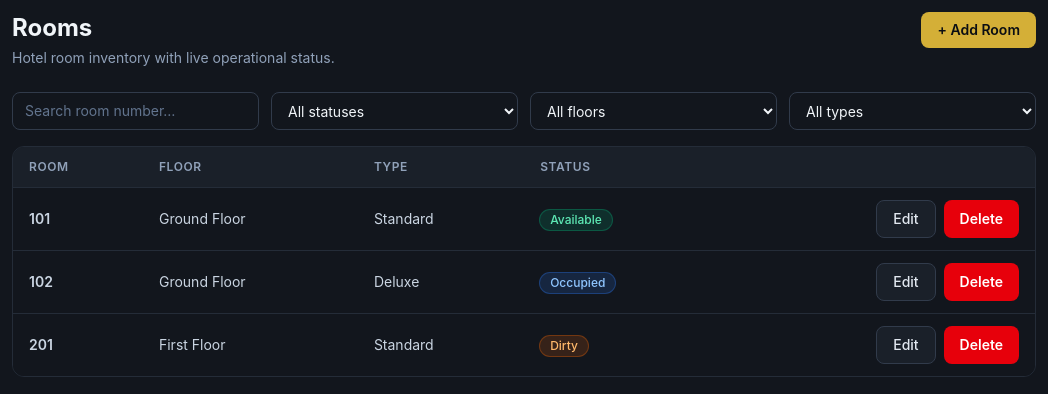
Test: RoomsPage › filters rooms by status
expect the text "101" is shown: met, box left=29, top=210, right=50, bottom=227
Select "occupied" in the dropdown named "Filter by status" at (394, 111), box left=271, top=92, right=518, bottom=130
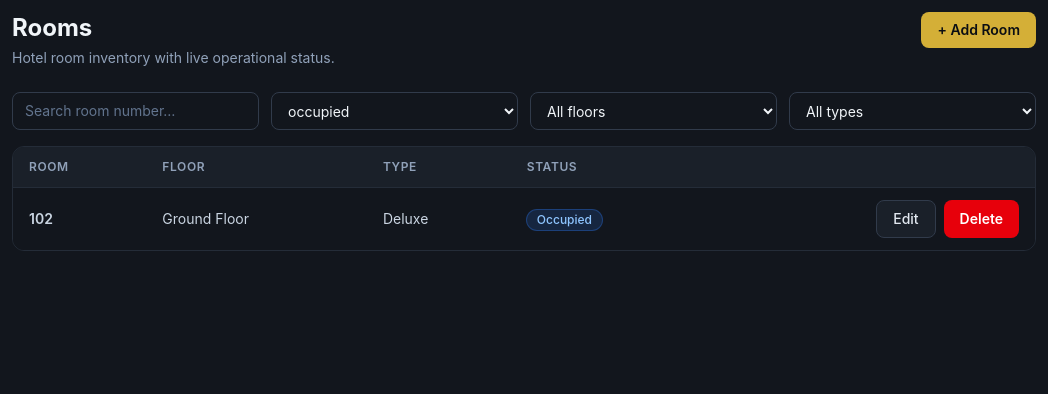
expect the text "102" is shown: met, box left=29, top=210, right=53, bottom=227
expect the text "101" is gone: met
